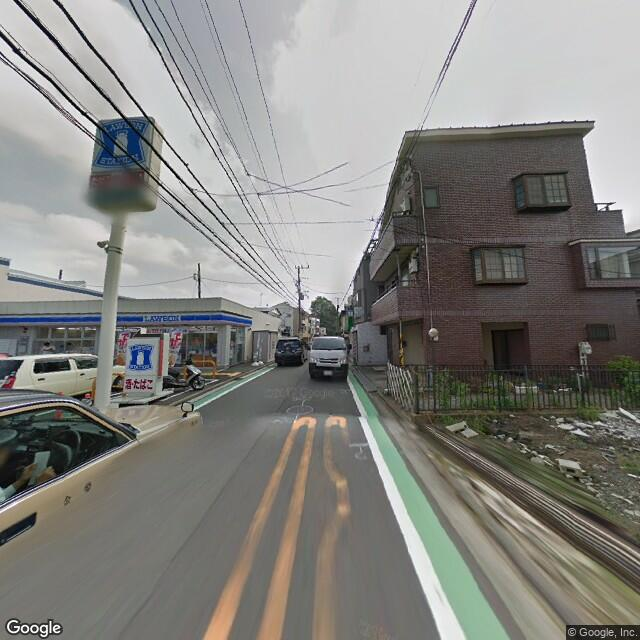lawson: (4, 308, 256, 328), (94, 117, 151, 168), (123, 339, 158, 376)
